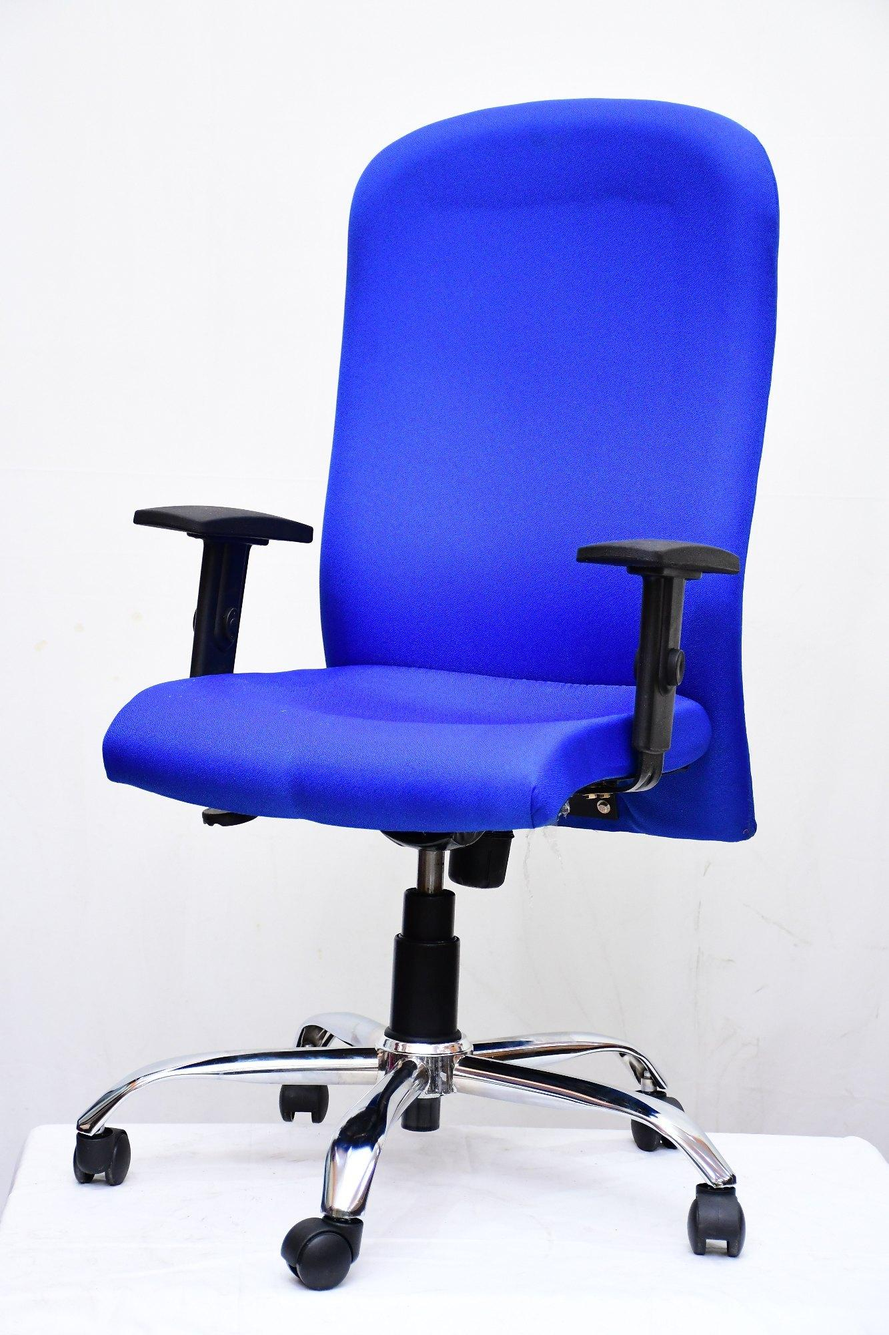chair: (21, 79, 798, 1273)
